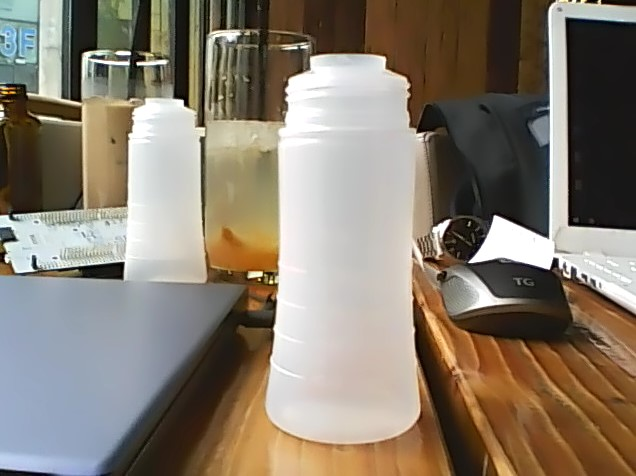Plastic: (265, 51, 426, 449)
